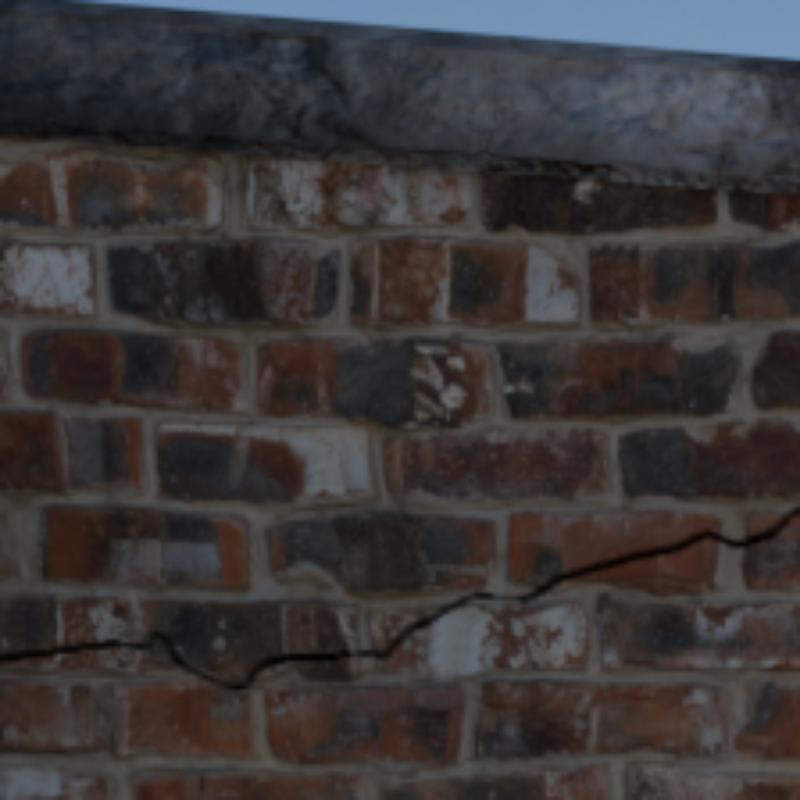pothole: (0, 507, 796, 686)
